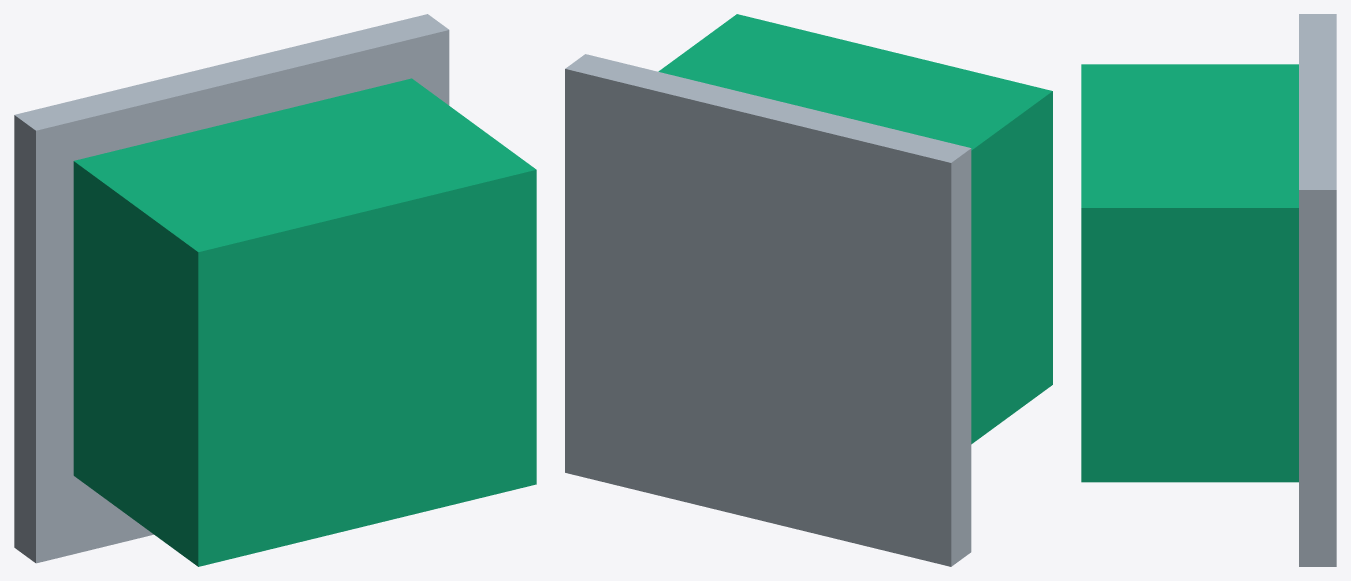
File: term-fresh-air-intake.glb
3 views of the same model, side by side, from view 1: azimuth 30°, elevation 25°; view 2: azimuth 150°, elevation 25°; view 3: azimuth 270°, elevation 25° (orthographic). The views are drawn at different scales.
Parts seen in each view (by area): view 1: hvac-terminal-fresh-air-intake; view 2: hvac-terminal-fresh-air-intake; view 3: hvac-terminal-fresh-air-intake.
Boxes of the visible parts, box(x1,y1,x2,y2) form: hvac-terminal-fresh-air-intake: box(14, 14, 536, 566); hvac-terminal-fresh-air-intake: box(565, 14, 1052, 566); hvac-terminal-fresh-air-intake: box(1081, 14, 1336, 566).
Size of the model in its own units: 0.22 by 0.22 by 0.135.
